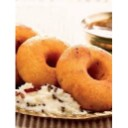vada: (57, 42, 115, 111), (17, 35, 71, 89)
